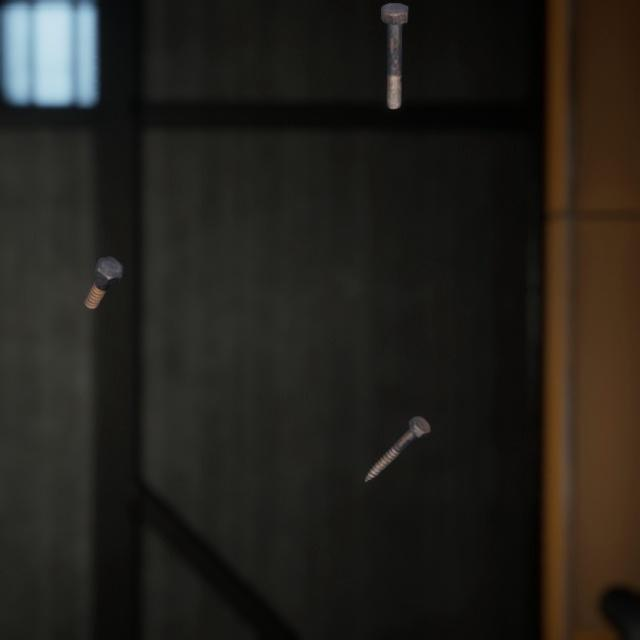bolt: (360, 391, 434, 466), (376, 0, 413, 105), (79, 235, 127, 297)
